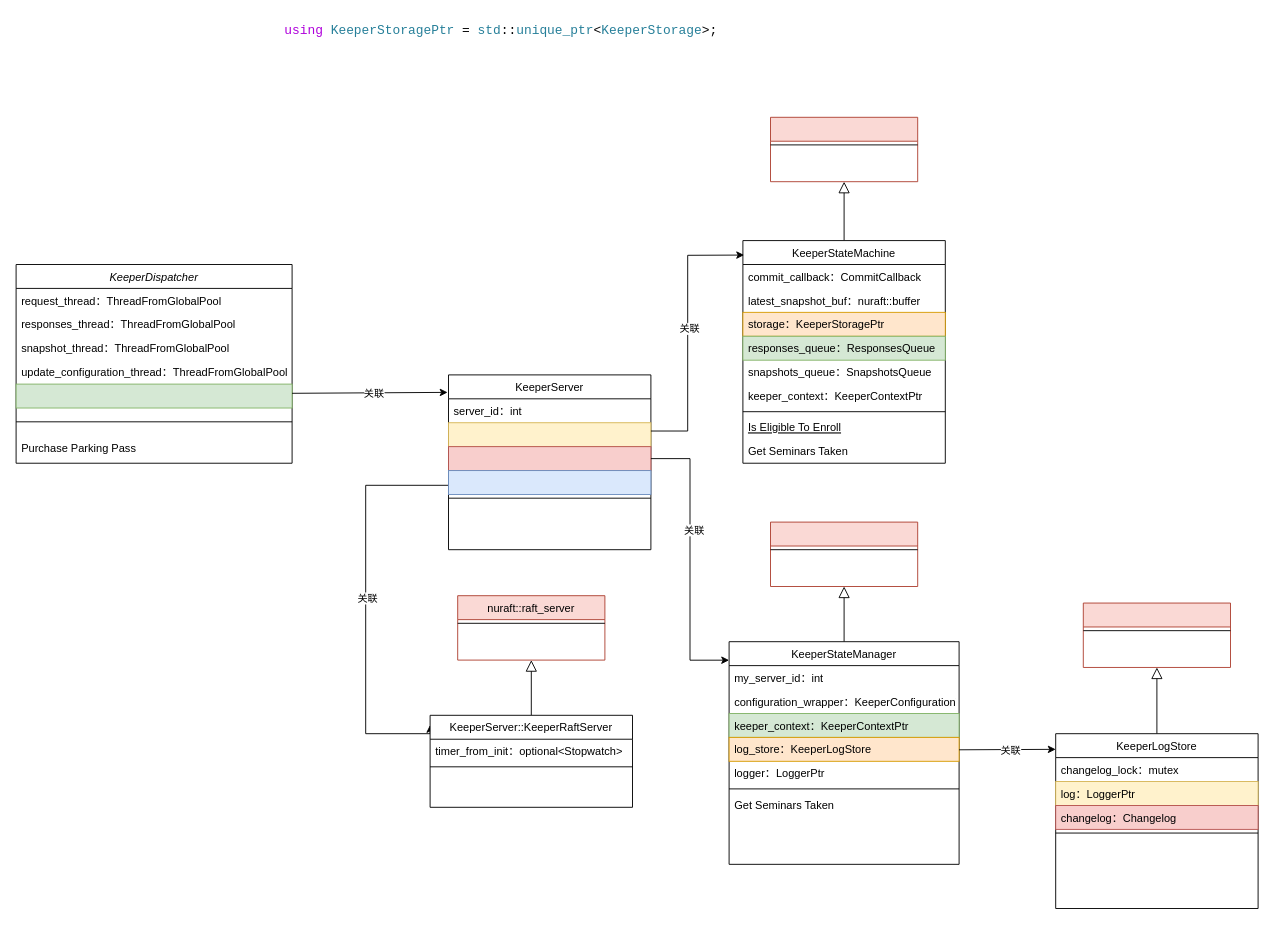
This 1274x925 diagram has some shape labels left out. The centre of each missing label's shape, as x and y in pixels:
"nuraft::log_store" belongs at point 1156,634.
"nuraft::state_machine" belongs at point 844,149.
"nuraft::state_mgr" belongs at point 844,553.
"raft_instance：KeeperRaftServer" belongs at point 549,482.
"server：KeeperServer" belongs at point 153,395.
"state_machine：KeeperStateMachine" belongs at point 549,434.
"state_manager：KeeperStateManager" belongs at point 549,458.
